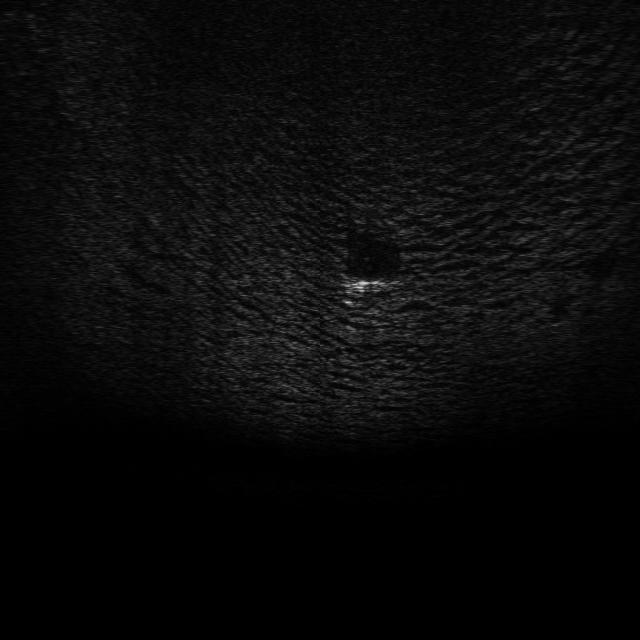plane: (337, 268, 402, 298)
